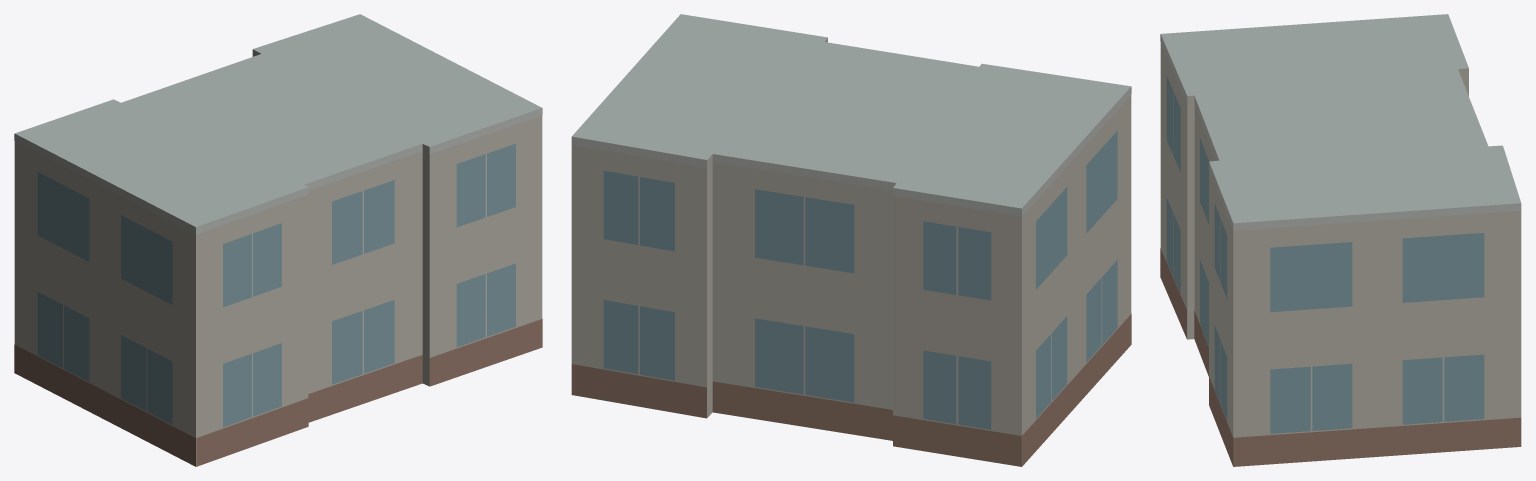
Rendered from survey-upis-32950308.glb.
3 renders of one model, left to right at view 1: azimuth 30°, elevation 25°; view 2: azimuth 150°, elevation 25°; view 3: azimuth 270°, elevation 25°, orthographic. The views are drawn at different scales.
Parts seen in each view (by area): view 1: survey-upis-32950308.tmp; view 2: survey-upis-32950308.tmp; view 3: survey-upis-32950308.tmp.
Boxes of the visible parts, x1,y1,x2,y2 form: survey-upis-32950308.tmp: [14, 14, 542, 466]; survey-upis-32950308.tmp: [571, 14, 1131, 466]; survey-upis-32950308.tmp: [1160, 14, 1521, 466].
Size of the model in its own units: 14.48 by 7.85 by 10.55.
